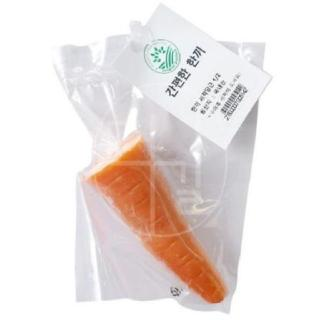carrot: (83, 132, 229, 304)
